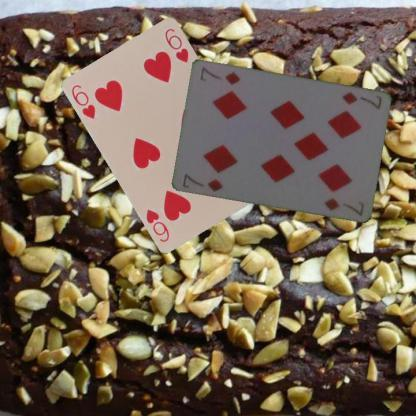6h: (68, 82, 98, 120)
7d: (180, 170, 224, 193), (340, 89, 384, 111)
